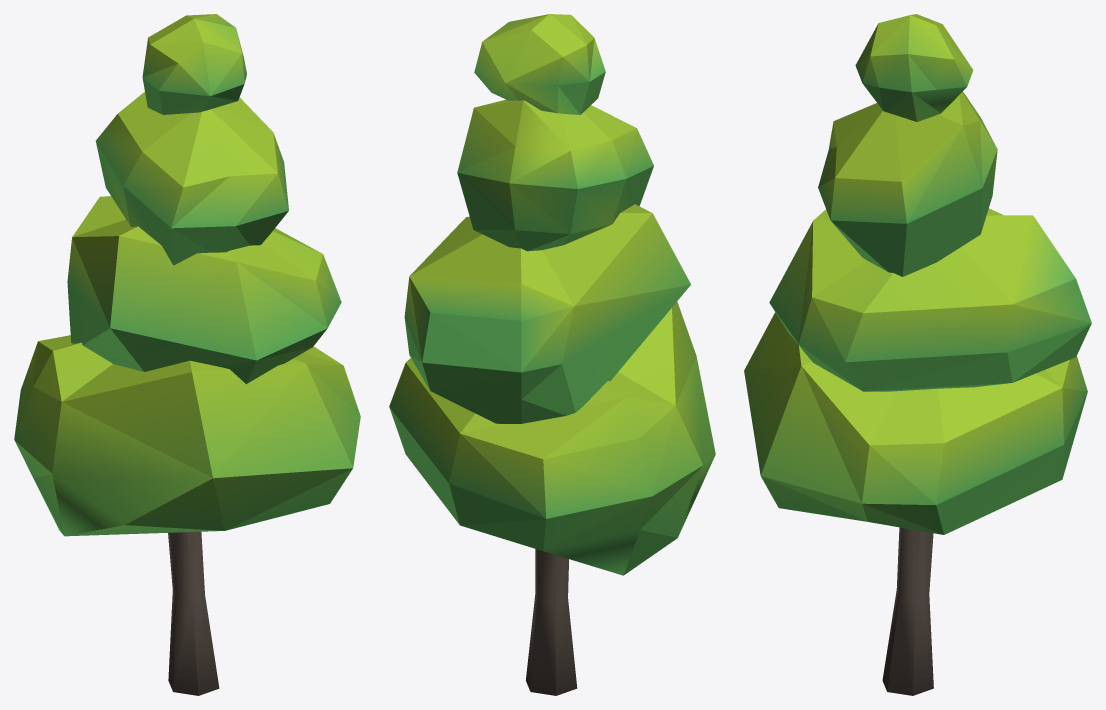
File: tree_9.FBX
The picture shows the model from 3 angles, left to right: view 1: azimuth 30°, elevation 25°; view 2: azimuth 150°, elevation 25°; view 3: azimuth 270°, elevation 25°; orthographic projection.
Parts seen in each view (by area): view 1: tree_9; view 2: tree_9; view 3: tree_9.
Part boxes in pixels (box(x1,y1,x2,y2)): tree_9: box(14, 14, 360, 695); tree_9: box(389, 14, 715, 695); tree_9: box(744, 14, 1091, 695).
Size of the model in its own units: 144 by 313 by 147.
